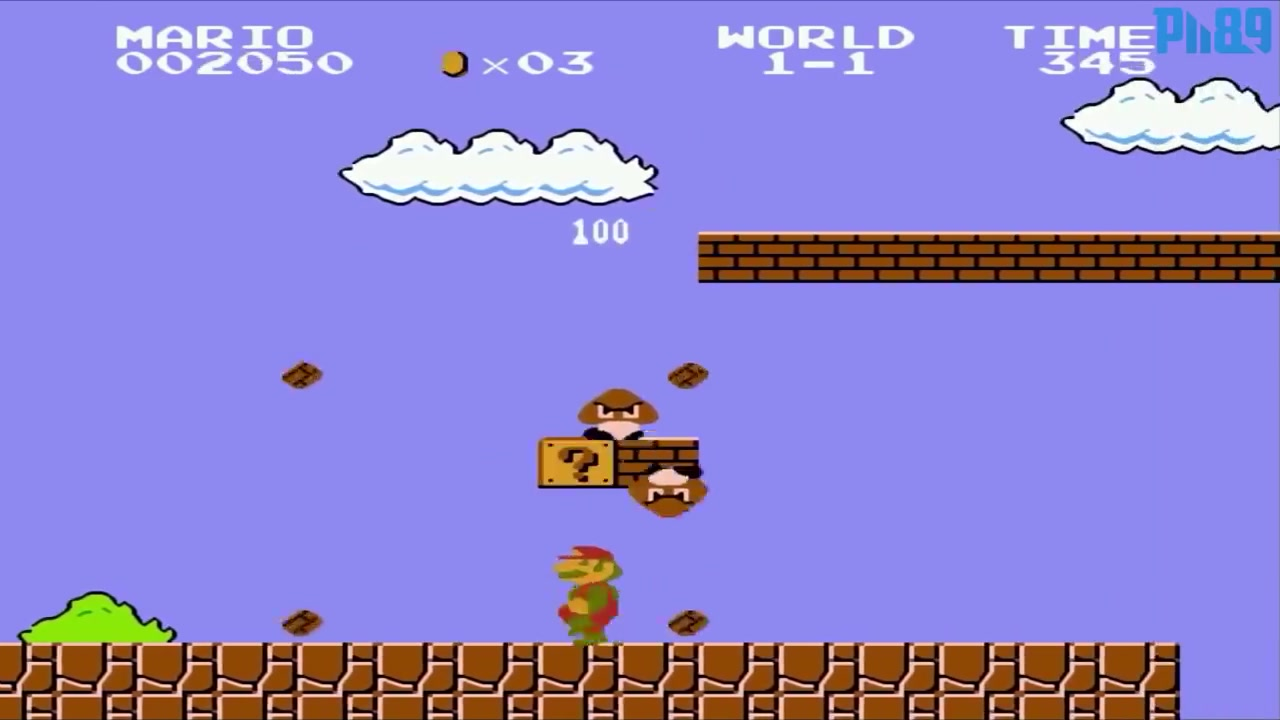mario: (546, 535, 635, 644)
